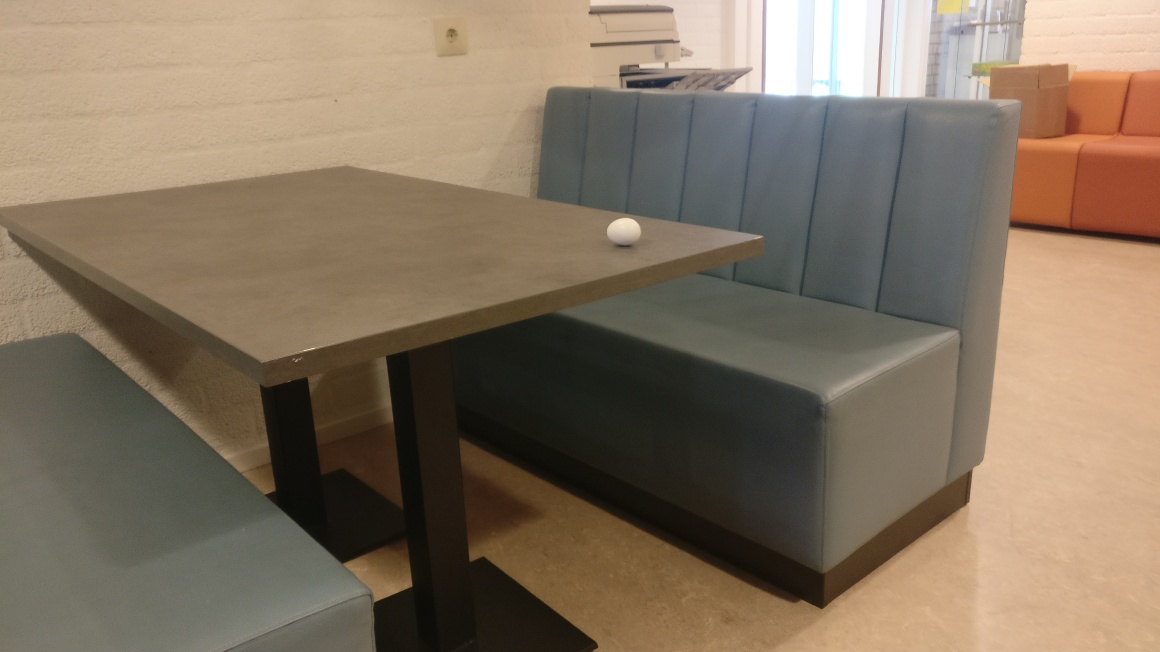egg: (606, 217, 642, 246)
